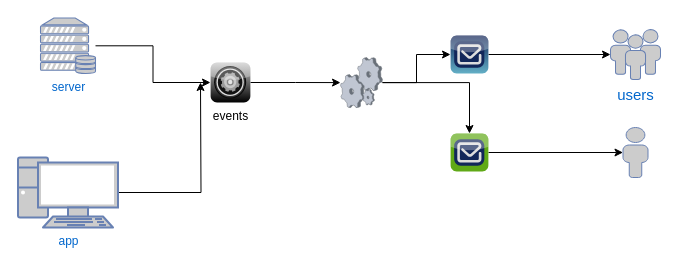
Image size: 687x266. Some labels were removed from this diagram. The box of each missing label's shape, as (x1, y1, x2, y2) in pixels:
administrator: (622, 126, 648, 178)
event processes: (340, 57, 382, 107)
